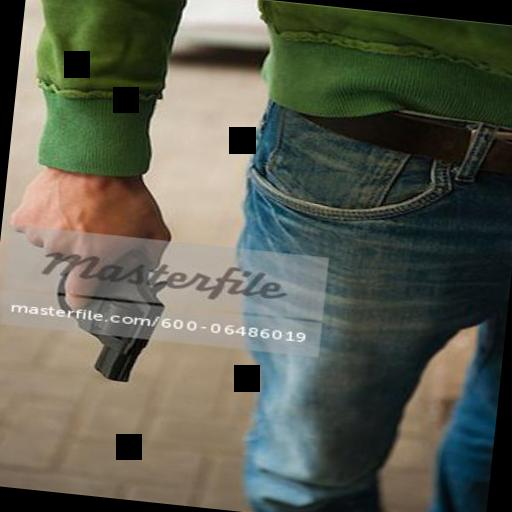Handgun: (46, 220, 175, 388)
